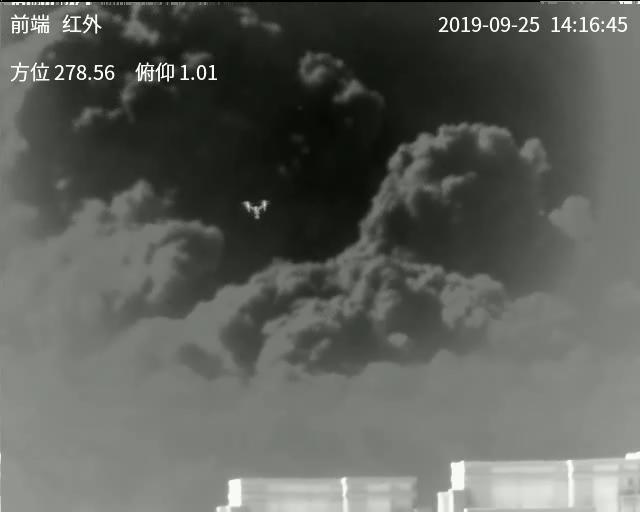uav: (239, 193, 269, 220)
